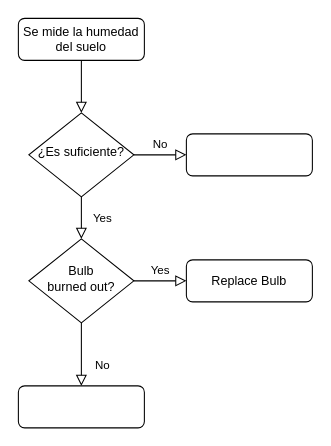
This 331x446 diagram has some shape labels left out. The shapes that lost their labels are listed below. From the top down, each one's box as (x1, y1, x2, y2) in pixels, then its label:
(185, 133, 312, 176): Plug in lamp
(17, 385, 144, 428): Repair Lamp
